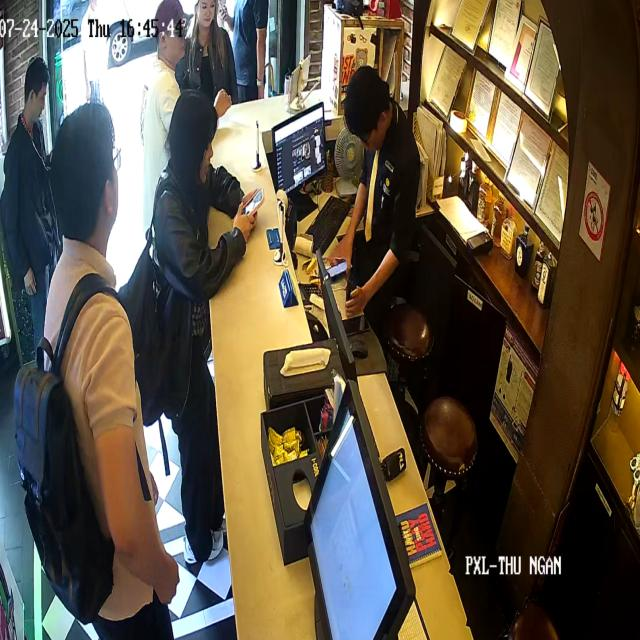khach: (46, 113, 185, 640), (153, 74, 254, 542), (20, 33, 75, 301), (142, 3, 202, 148), (225, 0, 295, 117), (195, 0, 255, 128)
nhan vien: (339, 61, 434, 342)
